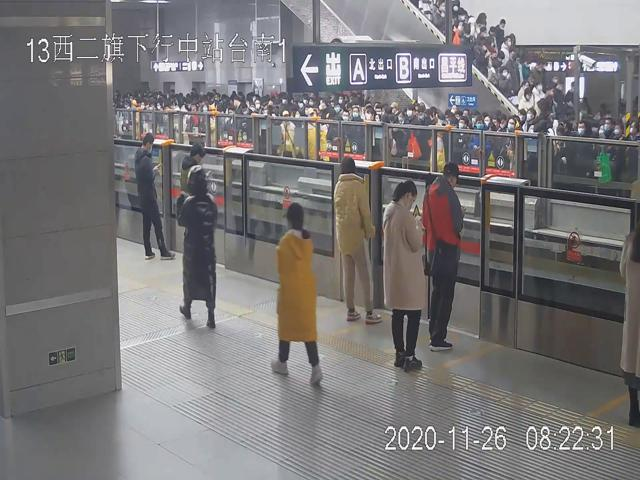person: (271, 201, 323, 385), (334, 155, 384, 325), (382, 180, 426, 372), (422, 160, 464, 351), (177, 164, 219, 329), (134, 132, 175, 260)
